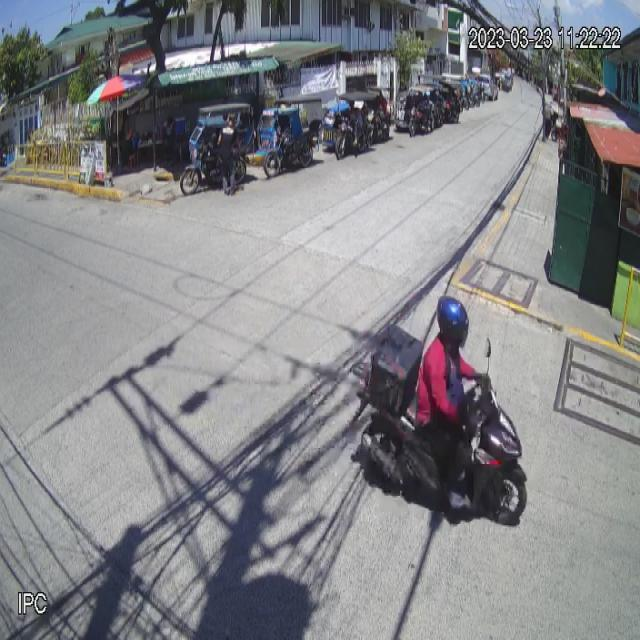Motorcycle: (356, 326, 529, 516)
